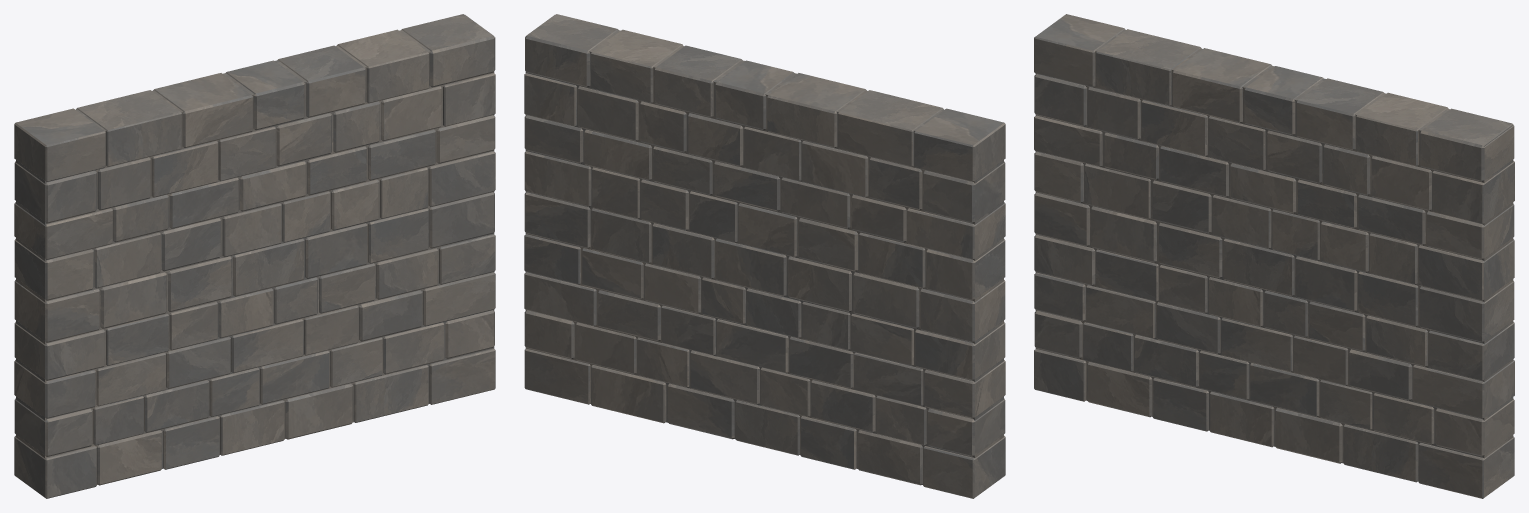
Rendered from S02_CoursedRubbleWall_4x3x0.50_UV1.fbx.
3 views of the same model, side by side, from view 1: azimuth 30°, elevation 25°; view 2: azimuth 150°, elevation 25°; view 3: azimuth 330°, elevation 25° (orthographic).
Visible parts, largest first — view 1: S02_Export_UV1; view 2: S02_Export_UV1; view 3: S02_Export_UV1.
Boxes of the visible parts, x1,y1,x2,y2 form: S02_Export_UV1: (14,14,495,498); S02_Export_UV1: (524,14,1005,498); S02_Export_UV1: (1034,14,1514,498).
Size of the model in its own units: 4 by 3 by 0.5.
